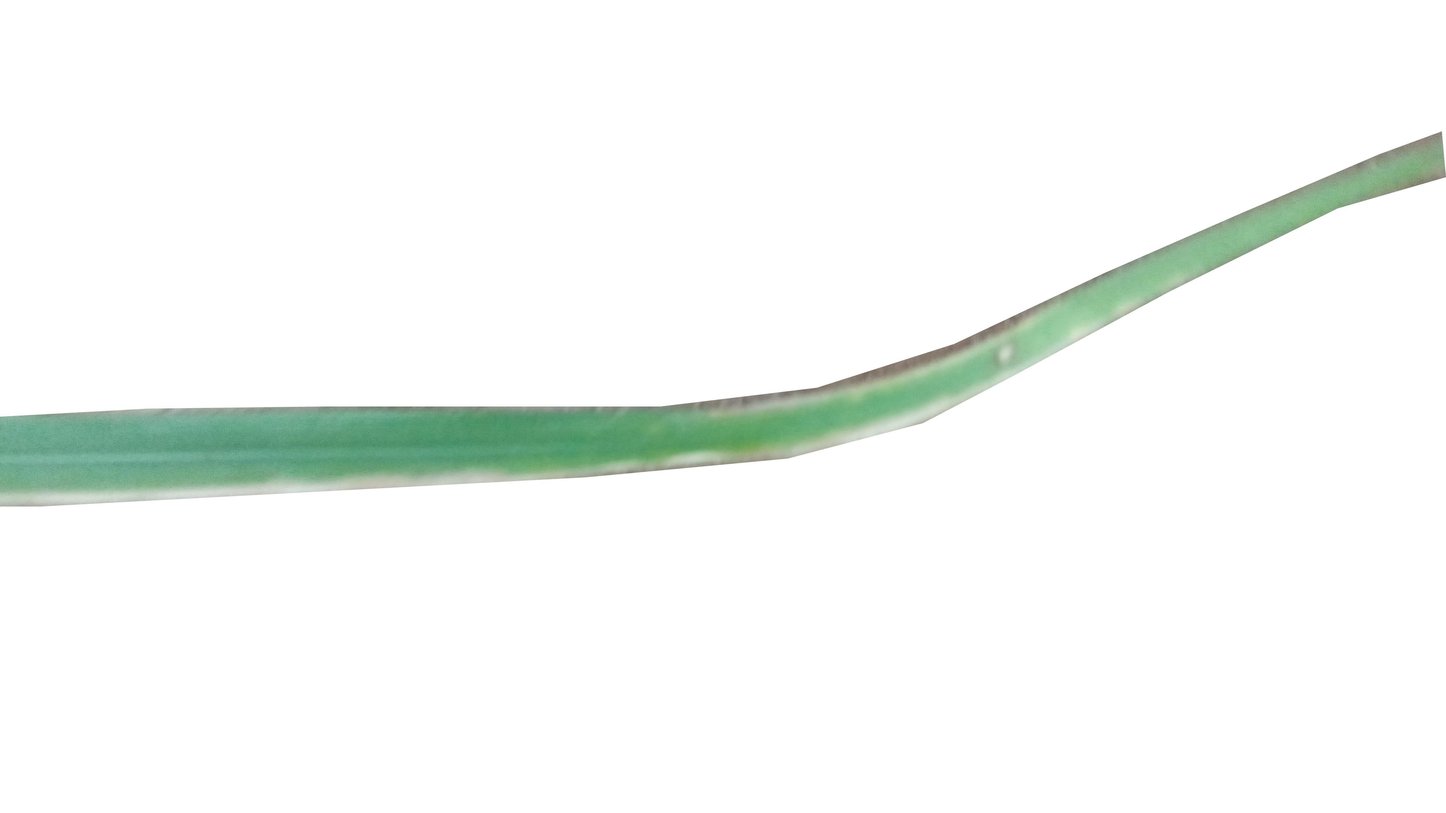Blight: (838, 380, 982, 443), (610, 431, 758, 481)
